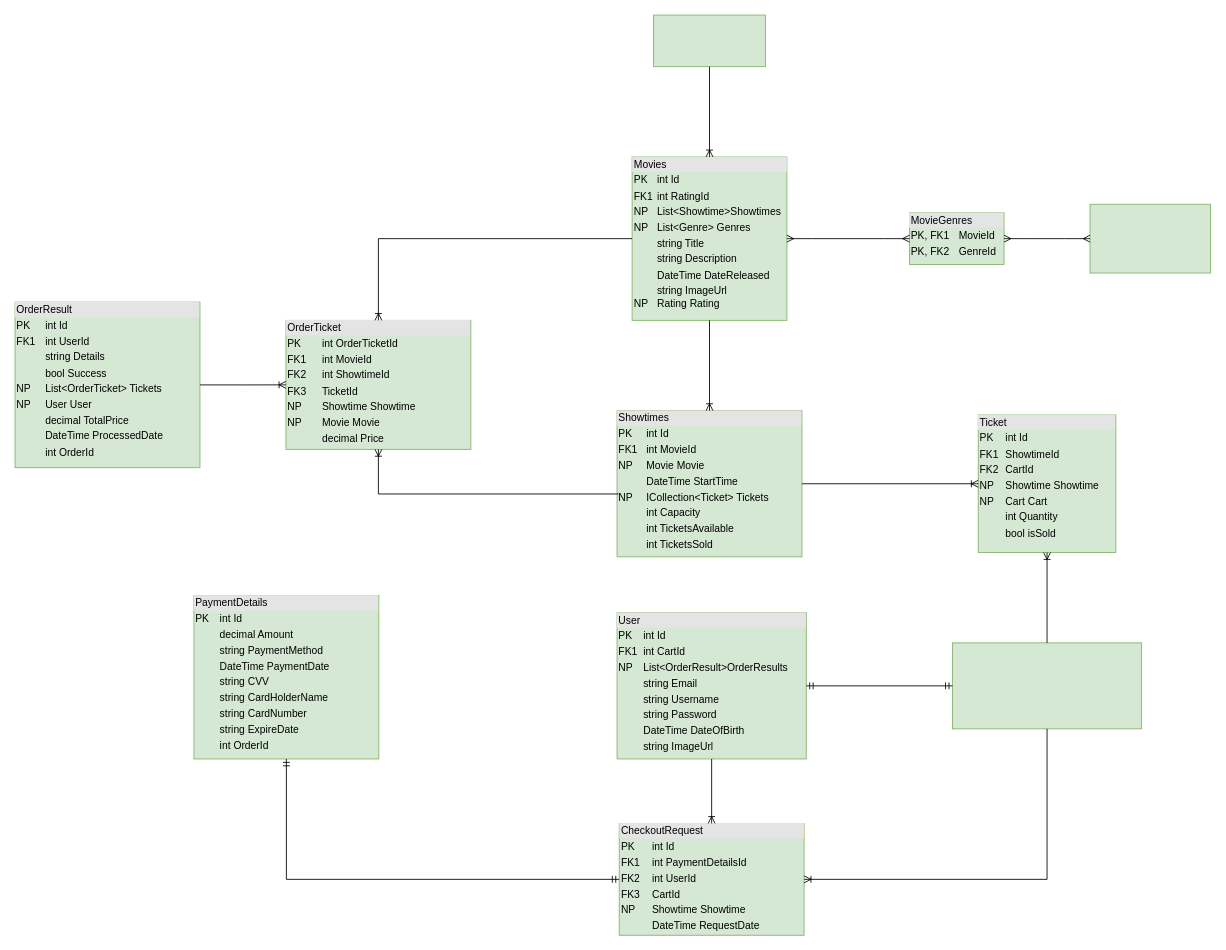
Some shapes in this 1226 by 950 pixel diagram are drawn without their labels. The shapes that lost their labels are listed below. From the top down, each one's centre as x and y in pixels, then its label:
At point (709, 40): "Rating PK Id string Name".
At point (1149, 238): "Genre PK int Id NP List<Movie> Movie string Name".
At point (1047, 685): "Cart PK int CartId FK1 int UserId NP User User NP ICollection<Ticket> Tickets".
